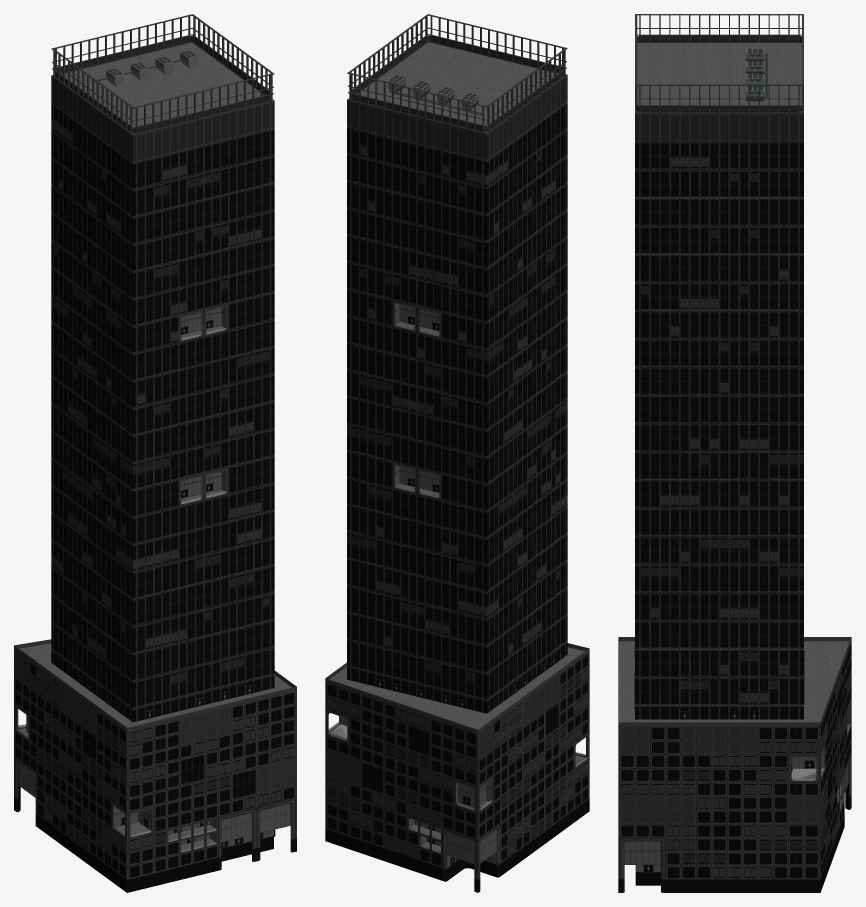
3 views of the same model, side by side, from view 1: azimuth 30°, elevation 25°; view 2: azimuth 150°, elevation 25°; view 3: azimuth 270°, elevation 25° (orthographic). The views are drawn at different scales.
Parts seen in each view (by area): view 1: model_0.002; view 2: model_0.002; view 3: model_0.002.
Part boxes in pixels (x1,y1,x2,y2): model_0.002: (14,14,296,892); model_0.002: (325,14,589,892); model_0.002: (618,14,851,892).
Bounding box in the file's own units: 1.07 × 4.68 × 1.24.
Materials: 1 (1 with a texture image).
